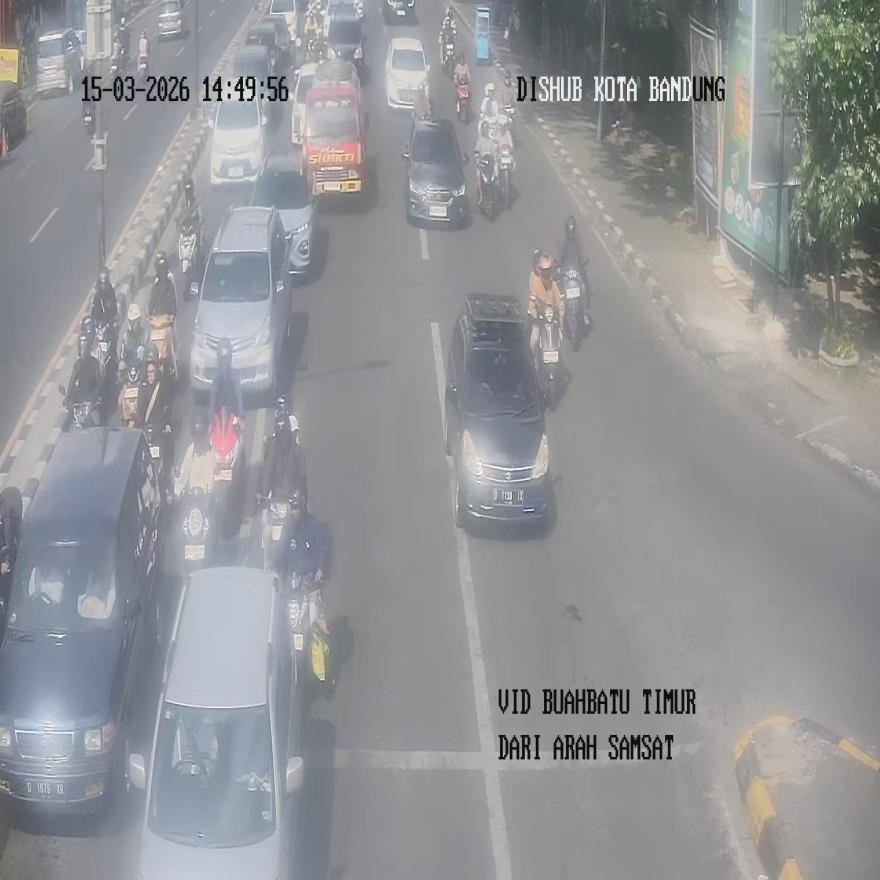Motor: (0, 426, 165, 816), (127, 567, 303, 878), (443, 294, 549, 526), (188, 205, 292, 400), (209, 44, 274, 186), (302, 59, 368, 196), (249, 152, 316, 273), (403, 117, 468, 223), (385, 36, 429, 112), (36, 28, 81, 98)
Truk: (286, 571, 329, 690), (533, 301, 561, 410), (558, 264, 586, 351), (179, 204, 204, 300), (476, 147, 498, 220), (498, 148, 514, 210), (112, 24, 129, 74), (455, 77, 470, 123), (138, 29, 148, 80), (441, 34, 454, 73)
